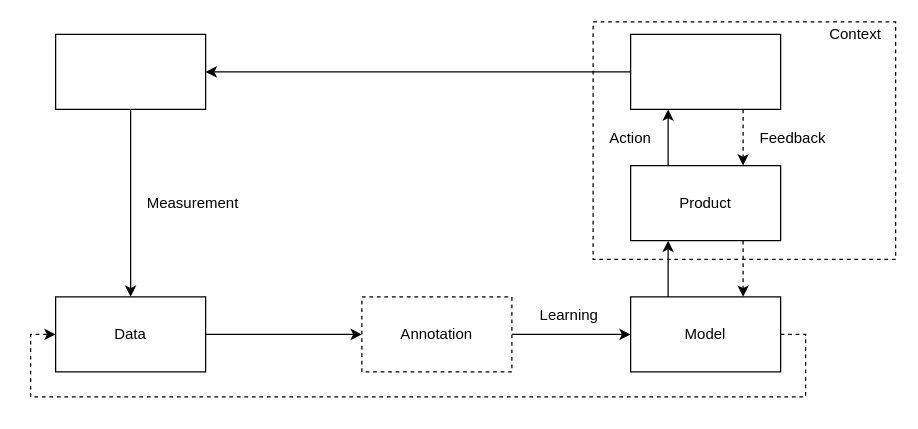
Image size: 918x429. Some labels were removed from this diagram. Here are the shapes that lost their labels. From the top down, the box of each, then its label:
(54, 33, 206, 109): "State of the World"
(629, 33, 781, 109): Users
